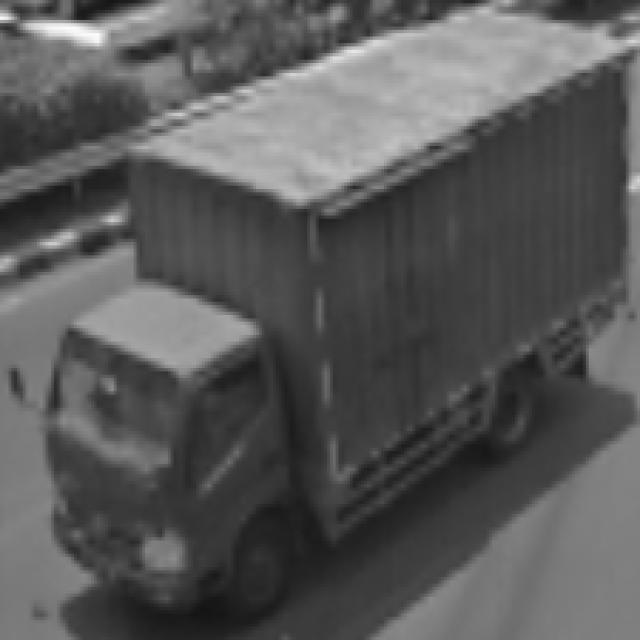truck: (1, 269, 316, 640)
